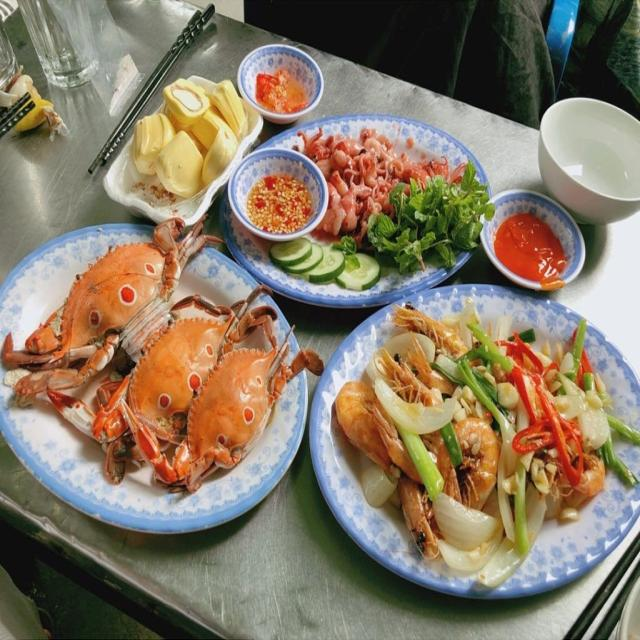bach tuoc hap: (310, 128, 460, 228)
ghe hap: (13, 242, 277, 485)
mit: (130, 69, 238, 193)
tom hap: (346, 320, 608, 522)
tuong ot: (479, 194, 583, 286)
